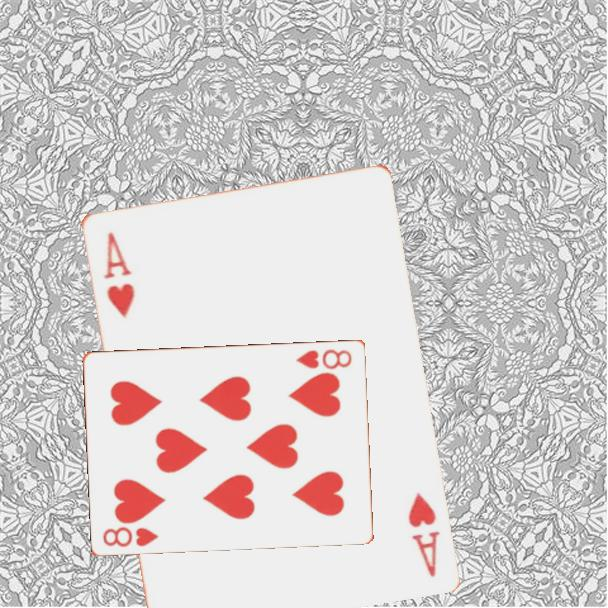h01: (99, 228, 138, 320), (404, 488, 443, 579)
h08: (293, 345, 355, 372), (99, 523, 161, 550)
